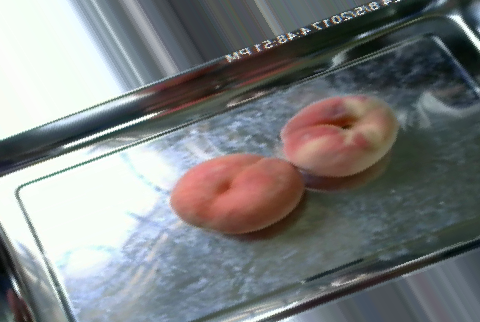Peach: (170, 153, 302, 234), (277, 94, 397, 179)
